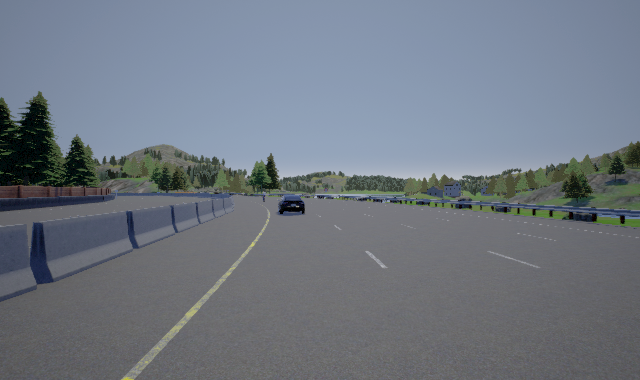traffic_sign: (324, 188, 328, 192)
vehicle: (278, 195, 305, 214)
